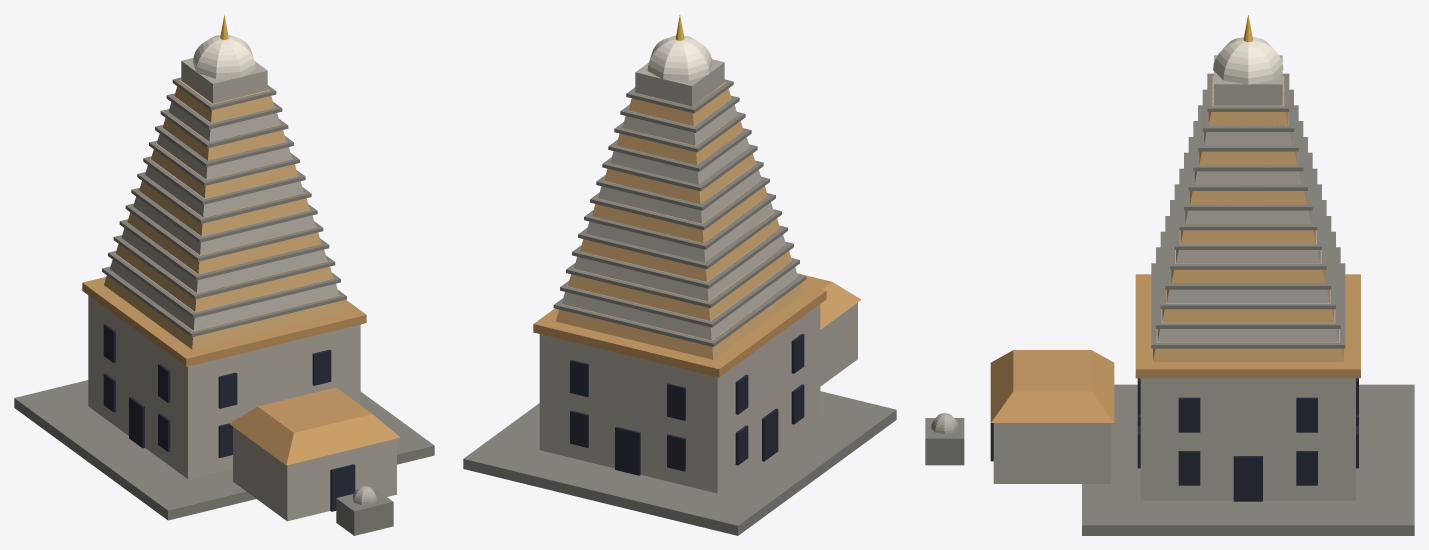
The model's file is brihadisvara-temple.glb.
3 renders of one model, left to right at view 1: azimuth 30°, elevation 25°; view 2: azimuth 150°, elevation 25°; view 3: azimuth 270°, elevation 25°, orthographic. The views are drawn at different scales.
Visible parts, largest first — view 1: brihadisvara-temple; view 2: brihadisvara-temple; view 3: brihadisvara-temple.
Boxes of the visible parts, x1,y1,x2,y2 form: brihadisvara-temple: (14, 14, 434, 535); brihadisvara-temple: (463, 15, 896, 535); brihadisvara-temple: (925, 15, 1414, 535).
Size of the model in its own units: 2.67 by 4 by 3.93.
